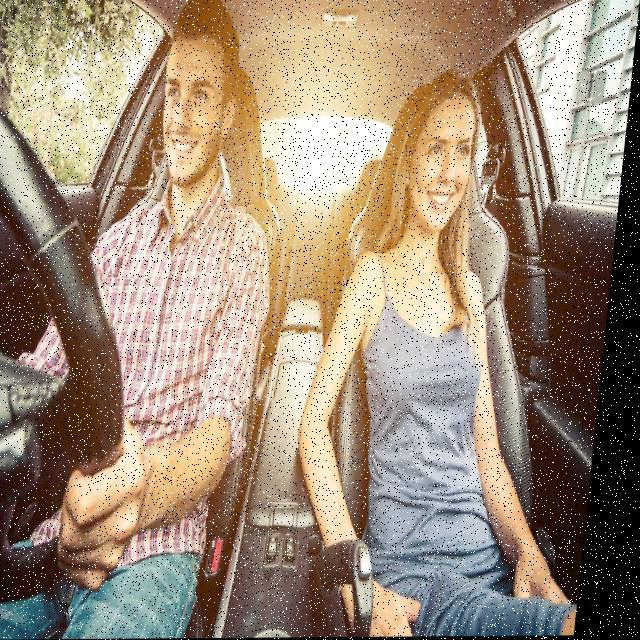noSeatbelt: (87, 125, 296, 554), (335, 199, 546, 568)
